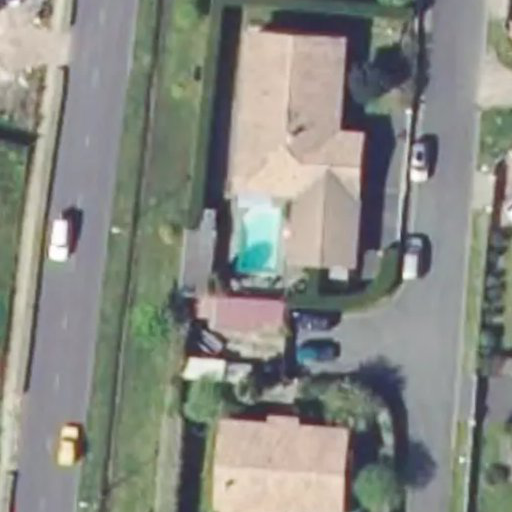pool: (238, 198, 282, 275)
